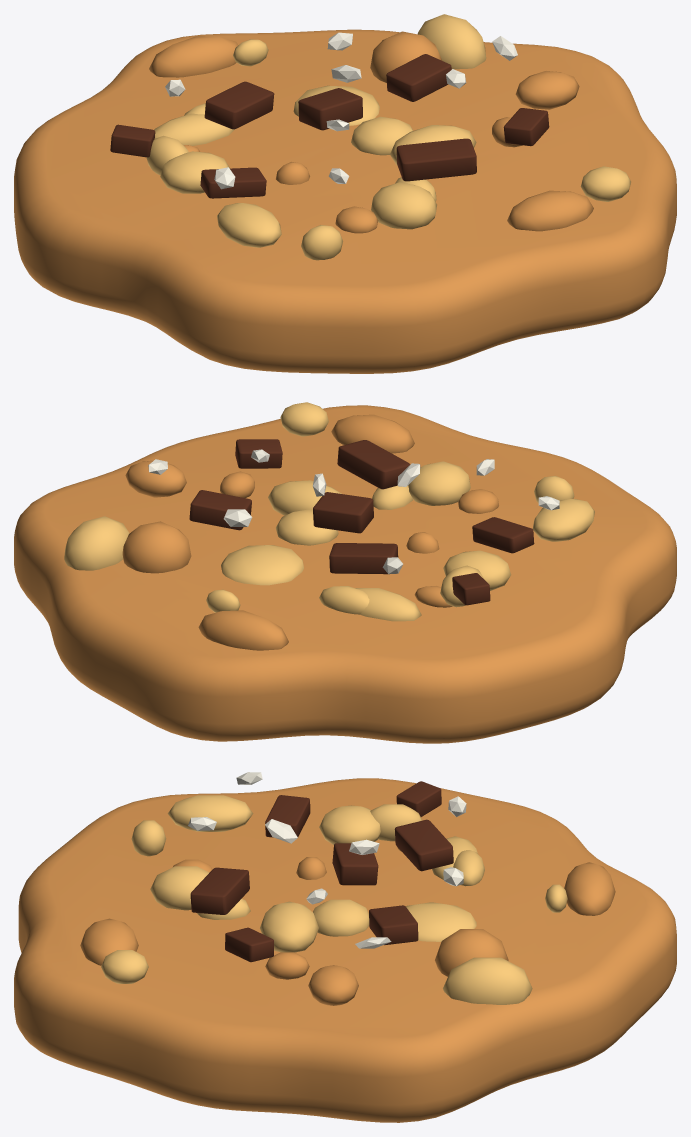
The model's file is smule-cookie.glb.
3 renders of one model, top to bottom at view 1: azimuth 30°, elevation 25°; view 2: azimuth 150°, elevation 25°; view 3: azimuth 270°, elevation 25°, orthographic. The views are drawn at different scales.
Parts seen in each view (by area): view 1: Dough_Base, Chocolate, Crumb_06, Crumb_18, Salt, Crumb_02, Crumb_16, Crumb_13, Crumb_00, Crumb_03, Crumb_11, Crumb_01 (+9 smaller); view 2: Dough_Base, Chocolate, Crumb_03, Crumb_02, Crumb_06, Crumb_04, Salt, Crumb_18, Crumb_16, Crumb_13, Crumb_00, Crumb_01 (+13 smaller); view 3: Dough_Base, Chocolate, Crumb_02, Salt, Crumb_20, Crumb_13, Crumb_06, Crumb_03, Crumb_11, Crumb_04, Crumb_18, Crumb_01 (+9 smaller).
Part boxes in pixels (<box>): Dough_Base: <box>14,29,676,373</box>; Chocolate: <box>110,54,549,198</box>; Crumb_06: <box>149,36,238,77</box>; Crumb_18: <box>507,190,593,231</box>; Salt: <box>165,32,517,189</box>; Crumb_02: <box>417,14,486,69</box>; Crumb_16: <box>371,182,436,229</box>; Crumb_13: <box>217,203,281,247</box>; Crumb_00: <box>515,71,579,109</box>; Crumb_03: <box>370,31,442,82</box>; Crumb_11: <box>160,151,230,193</box>; Crumb_01: <box>351,116,413,155</box>; Dough_Base: <box>14,405,676,743</box>; Chocolate: <box>189,439,534,605</box>; Crumb_03: <box>122,521,191,573</box>; Crumb_02: <box>64,516,129,570</box>; Crumb_06: <box>198,610,288,650</box>; Crumb_04: <box>221,545,303,585</box>; Salt: <box>148,449,559,574</box>; Crumb_18: <box>331,414,414,453</box>; Crumb_16: <box>408,461,470,505</box>; Crumb_13: <box>532,499,594,541</box>; Crumb_00: <box>125,460,186,497</box>; Crumb_01: <box>276,509,338,545</box>; Dough_Base: <box>14,778,676,1122</box>; Chocolate: <box>190,781,453,962</box>; Crumb_02: <box>443,957,532,1004</box>; Salt: <box>188,772,466,948</box>; Crumb_20: <box>260,901,318,952</box>; Crumb_13: <box>167,795,253,831</box>; Crumb_06: <box>564,862,615,915</box>; Crumb_03: <box>435,929,508,976</box>; Crumb_11: <box>319,805,380,844</box>; Crumb_04: <box>406,902,476,941</box>; Crumb_18: <box>80,918,138,965</box>; Crumb_01: <box>313,899,369,936</box>.
Size of the model in its own units: 5.28 by 1.38 by 5.2.
